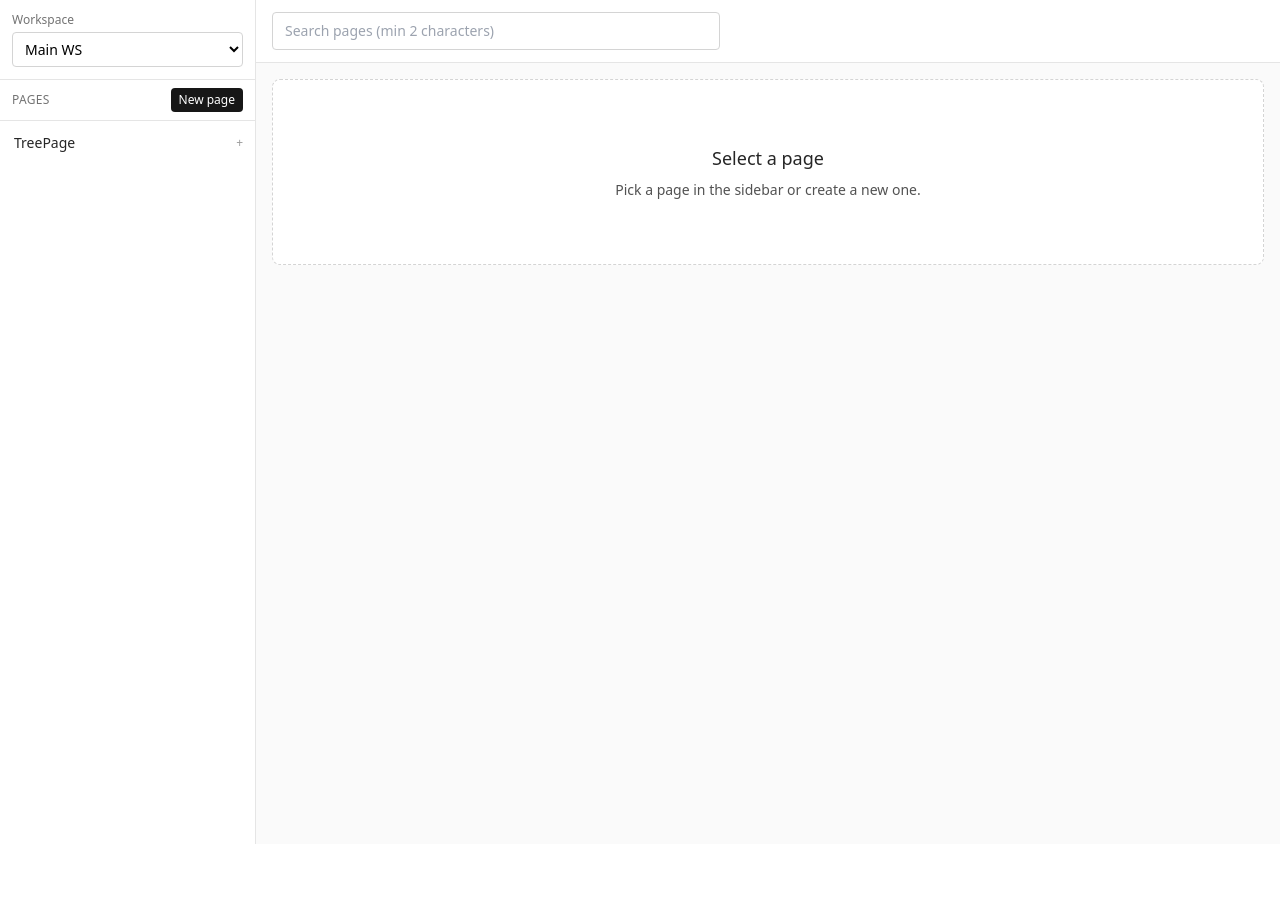
Test: DashboardSidebar integration › creates a root page and navigates to the editor route
expect the link "TreePage" is shown: met, box [14,133,75,152]
Step 1. Click the button "New page" → (207, 100), box [170,88,243,112]
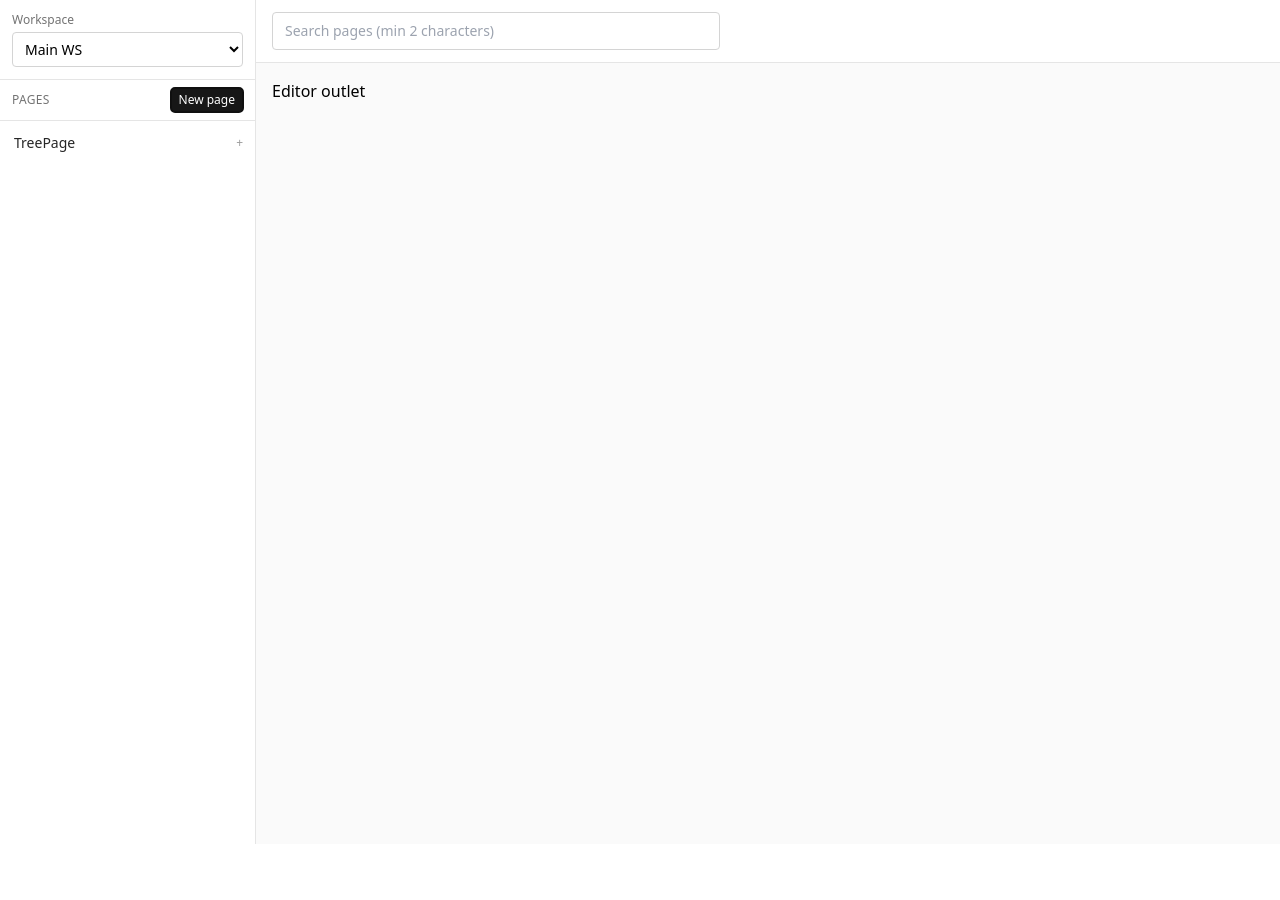
expect the text "Editor outlet" is shown: met, box [272,80,365,102]
